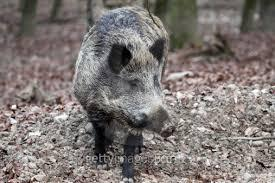wildboar: (71, 4, 175, 177)
